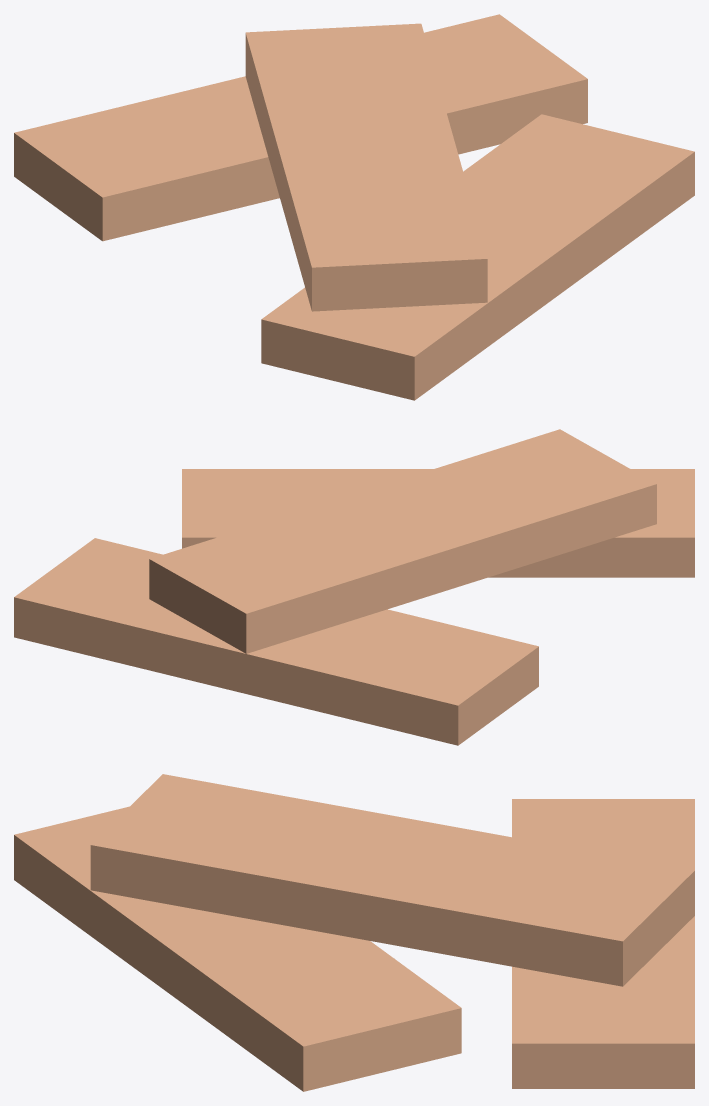
Rendered from debrisWood.glb.
The picture shows the model from 3 angles, top to bottom: view 1: azimuth 30°, elevation 25°; view 2: azimuth 150°, elevation 25°; view 3: azimuth 270°, elevation 25°; orthographic projection. The views are drawn at different scales.
Parts seen in each view (by area): view 1: debrisWood; view 2: debrisWood; view 3: debrisWood.
Part boxes in pixels (bbox=[...]): debrisWood: bbox=[14, 14, 694, 400]; debrisWood: bbox=[14, 429, 694, 745]; debrisWood: bbox=[14, 774, 694, 1091].
Size of the model in its own units: 0.4669 by 0.0787 by 0.5364.
